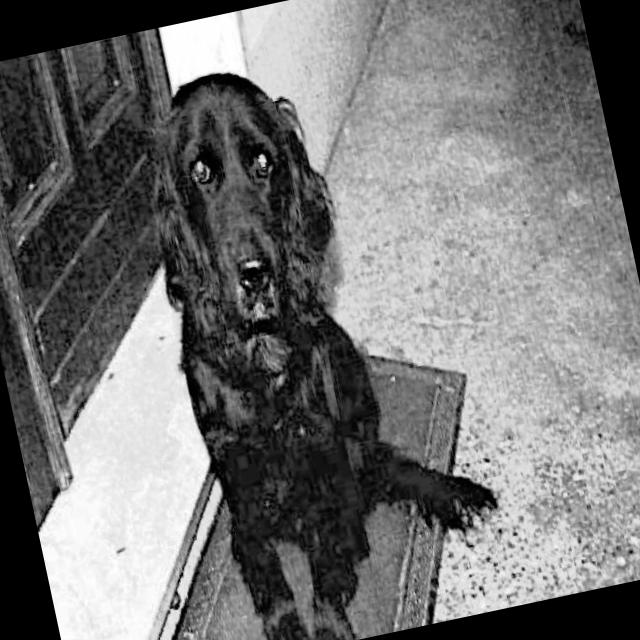Dog: (107, 22, 522, 640)
